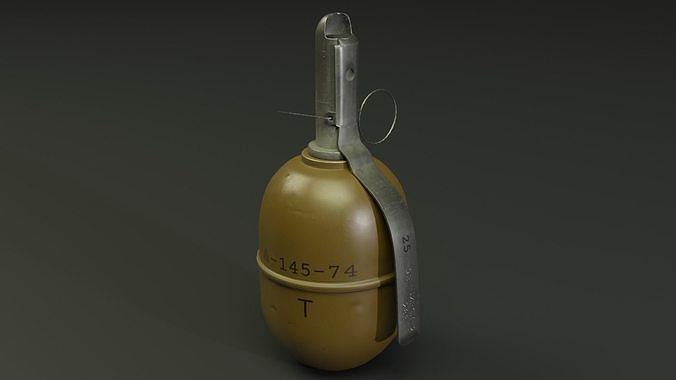RGD 5: (256, 8, 419, 373)
